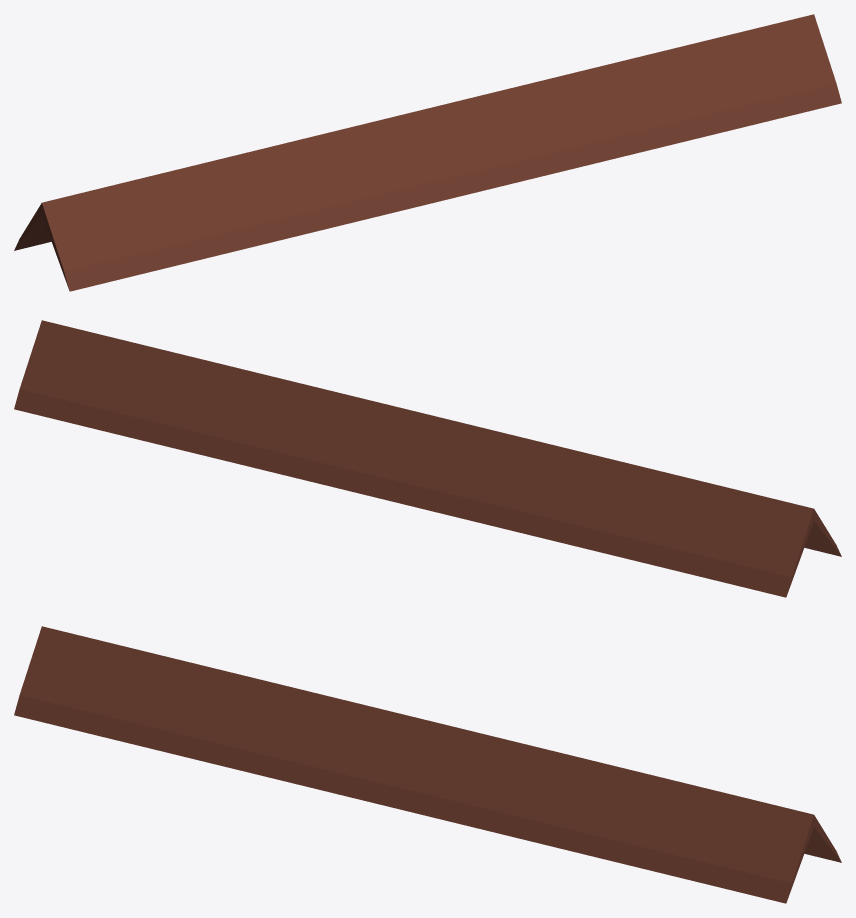
Rendered from Ridge__Plain.fbx.
3 views of the same model, one above another, from view 1: azimuth 30°, elevation 25°; view 2: azimuth 150°, elevation 25°; view 3: azimuth 330°, elevation 25° (orthographic).
Visible parts, largest first — view 1: Ridge__Plain; view 2: Ridge__Plain; view 3: Ridge__Plain.
Part boxes in pixels (x1=…): Ridge__Plain: x1=14, y1=14, x2=841, y2=291; Ridge__Plain: x1=14, y1=320, x2=841, y2=597; Ridge__Plain: x1=14, y1=626, x2=841, y2=903.
Size of the model in its own units: 400 by 34 by 50.
1 material, 1 textured.
